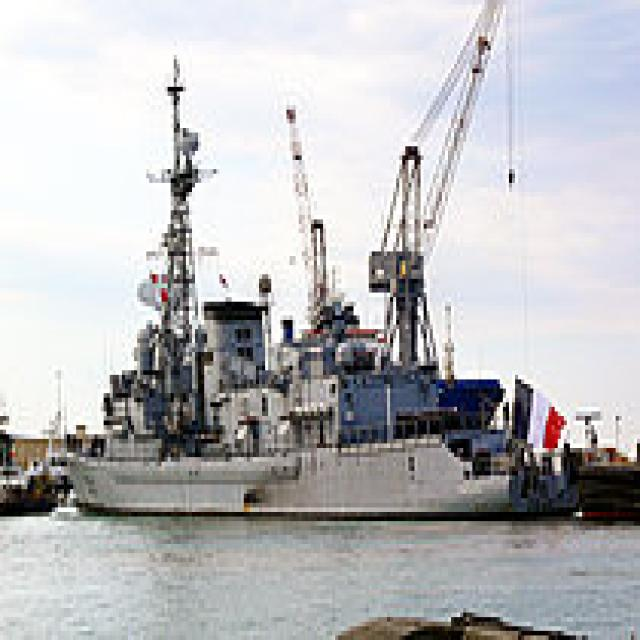Warship: (52, 50, 576, 521)
